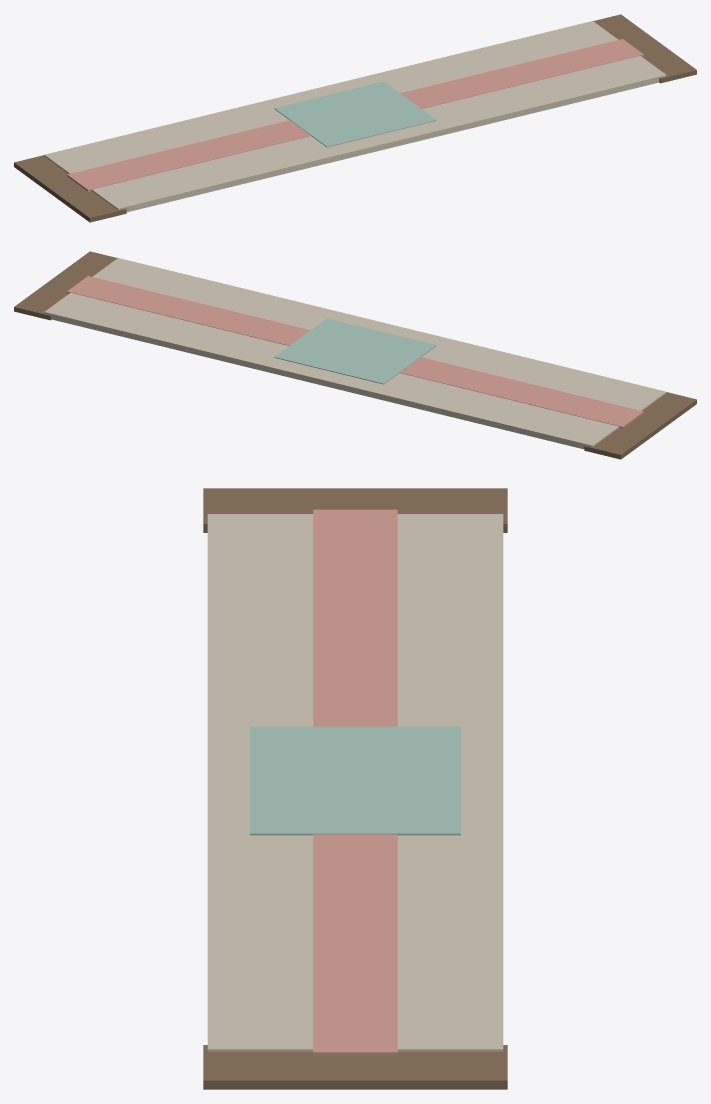
Rendered from mesa_trilho.glb.
The picture shows the model from 3 angles, top to bottom: view 1: azimuth 30°, elevation 25°; view 2: azimuth 150°, elevation 25°; view 3: azimuth 270°, elevation 25°; orthographic projection. The views are drawn at different scales.
Parts seen in each view (by area): view 1: MESA_TRILHO_v01; view 2: MESA_TRILHO_v01; view 3: MESA_TRILHO_v01.
Boxes of the visible parts, bbox=[...] form: MESA_TRILHO_v01: bbox=[14, 14, 696, 222]; MESA_TRILHO_v01: bbox=[14, 251, 696, 459]; MESA_TRILHO_v01: bbox=[203, 488, 507, 1089].
Size of the model in its own units: 1.66 by 0.018 by 0.36.
